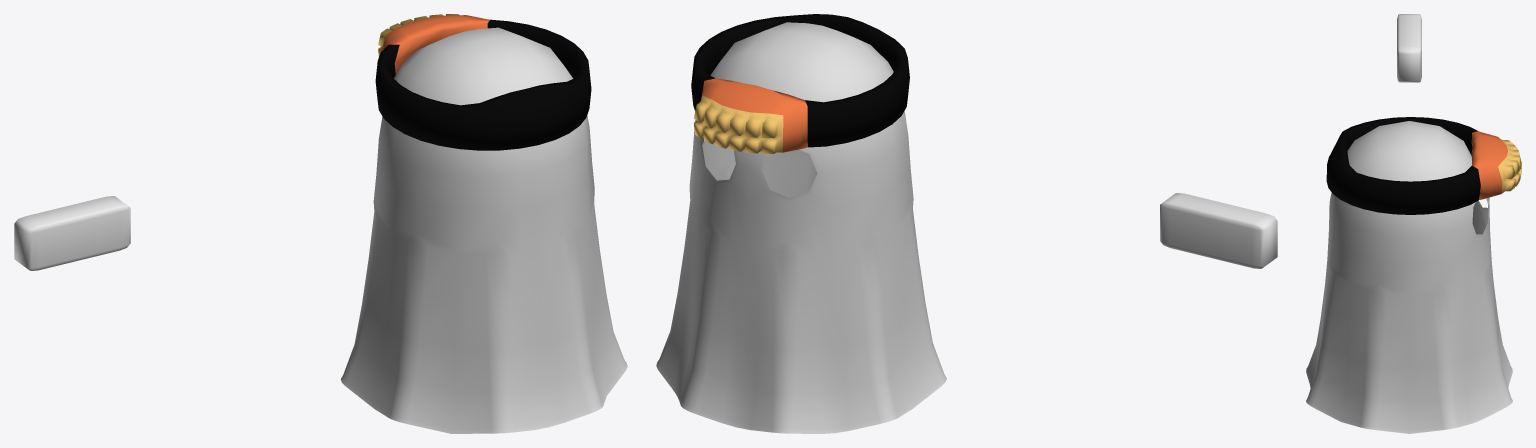
File: ghostrevize.fbx
The picture shows the model from 3 angles, left to right: view 1: azimuth 30°, elevation 25°; view 2: azimuth 150°, elevation 25°; view 3: azimuth 270°, elevation 25°; orthographic projection. The views are drawn at different scales.
Visible parts, largest first — view 1: Cube, Sphere, Cube.001; view 2: Cube, Sphere, Cube.001; view 3: Cube, Sphere, Cube.001.
Part boxes in pixels (x1,y1,x2,y2): Cube: (341,27,627,433); Sphere: (375,14,591,150); Cube.001: (14,196,130,270); Cube: (656,22,946,433); Sphere: (691,14,909,153); Cube.001: (1160,193,1277,268); Cube: (1306,121,1512,433); Sphere: (1326,117,1521,214); Cube.001: (1397,14,1421,82).
Bounding box in the file's own units: 531 × 299 × 223.
